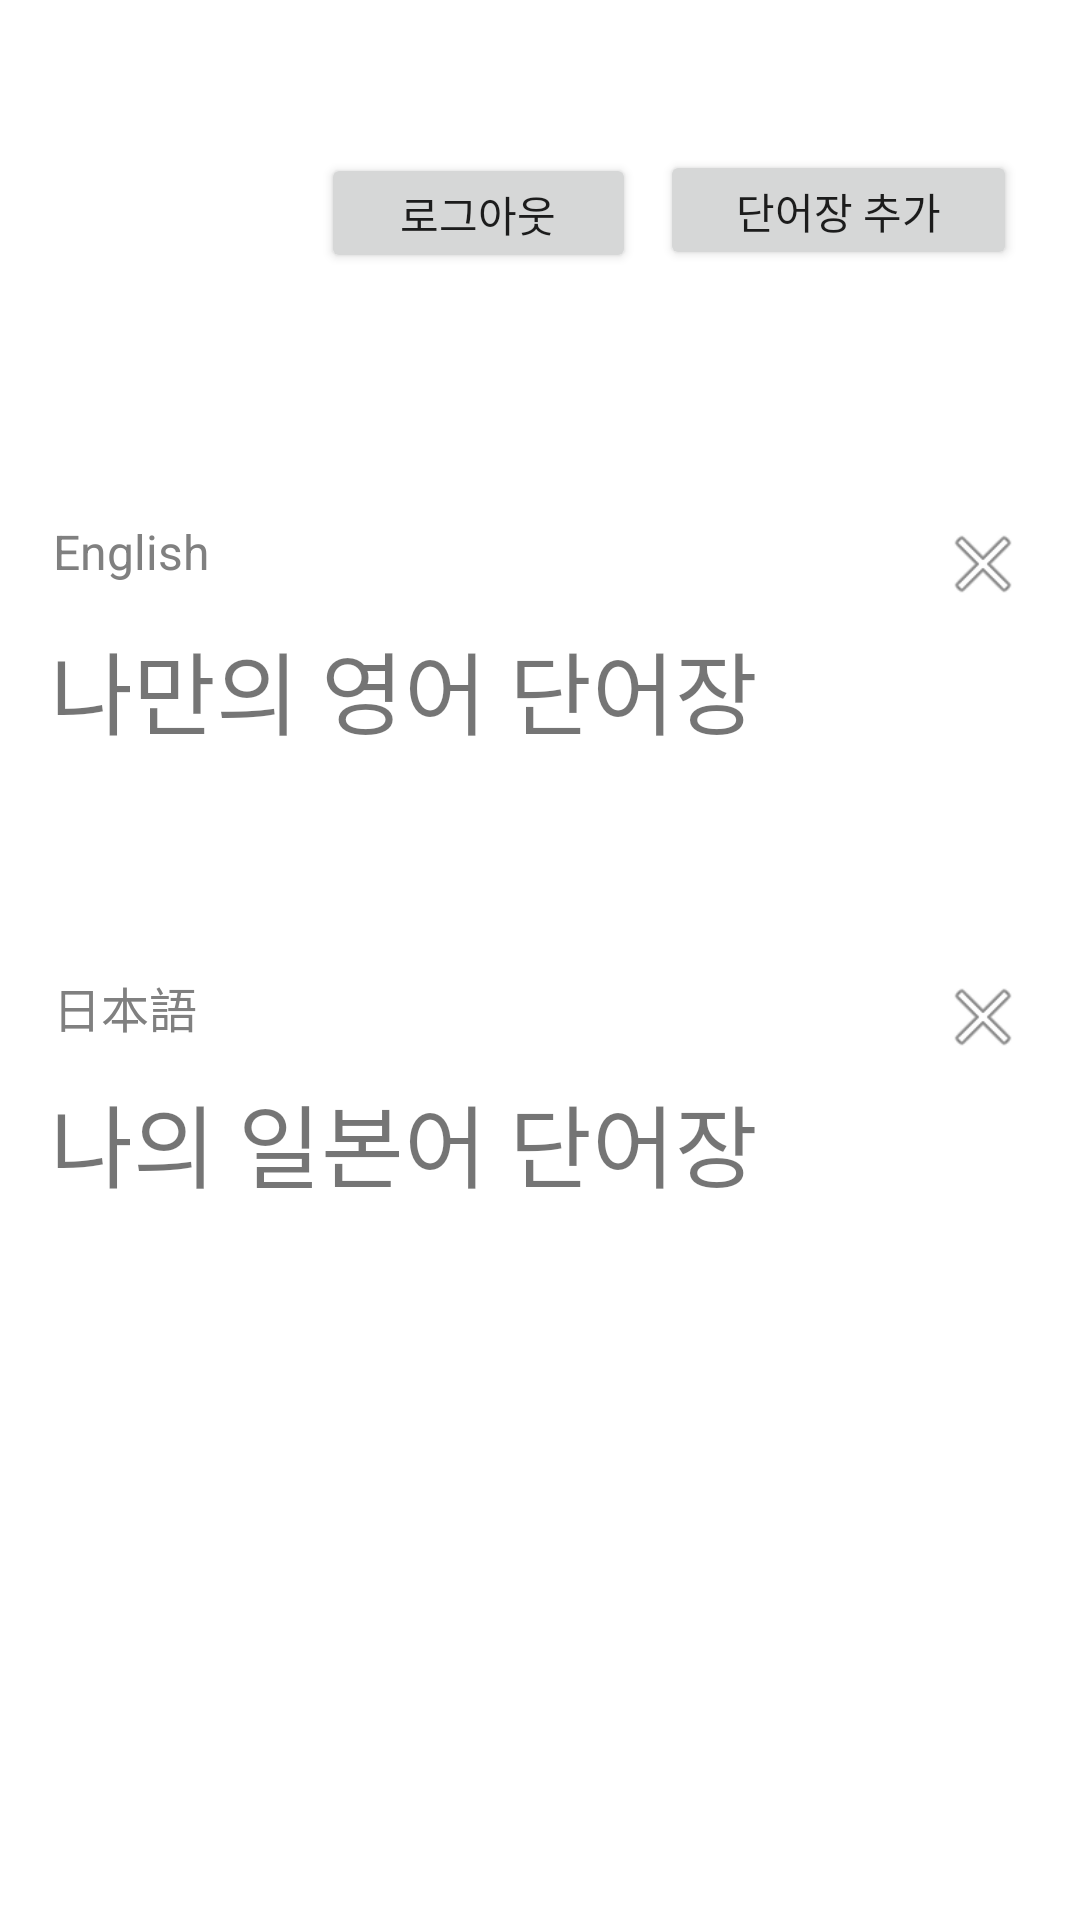

Icons on this 1080w x 1920h Android screen, each with its box as (x1=x1, y1=y1, x2=x2, y2=y2):
close clear cancel: (x1=955, y1=536, x2=1011, y2=592), (x1=955, y1=989, x2=1011, y2=1045)
